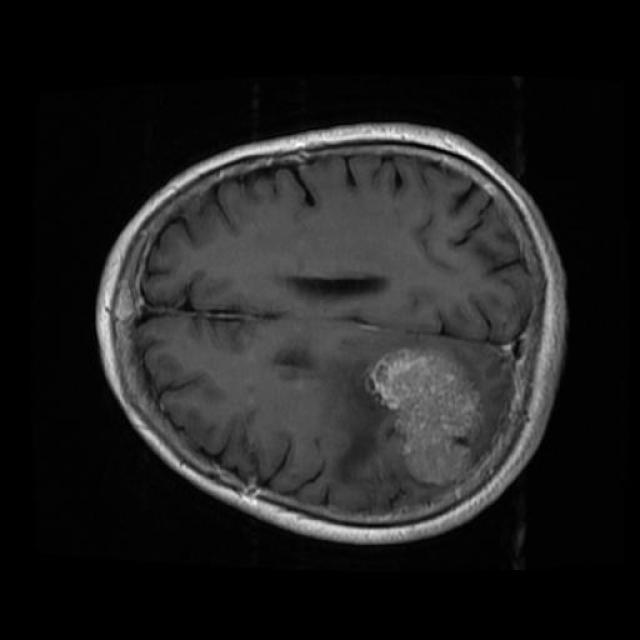Meningioma: (371, 349, 484, 483)
